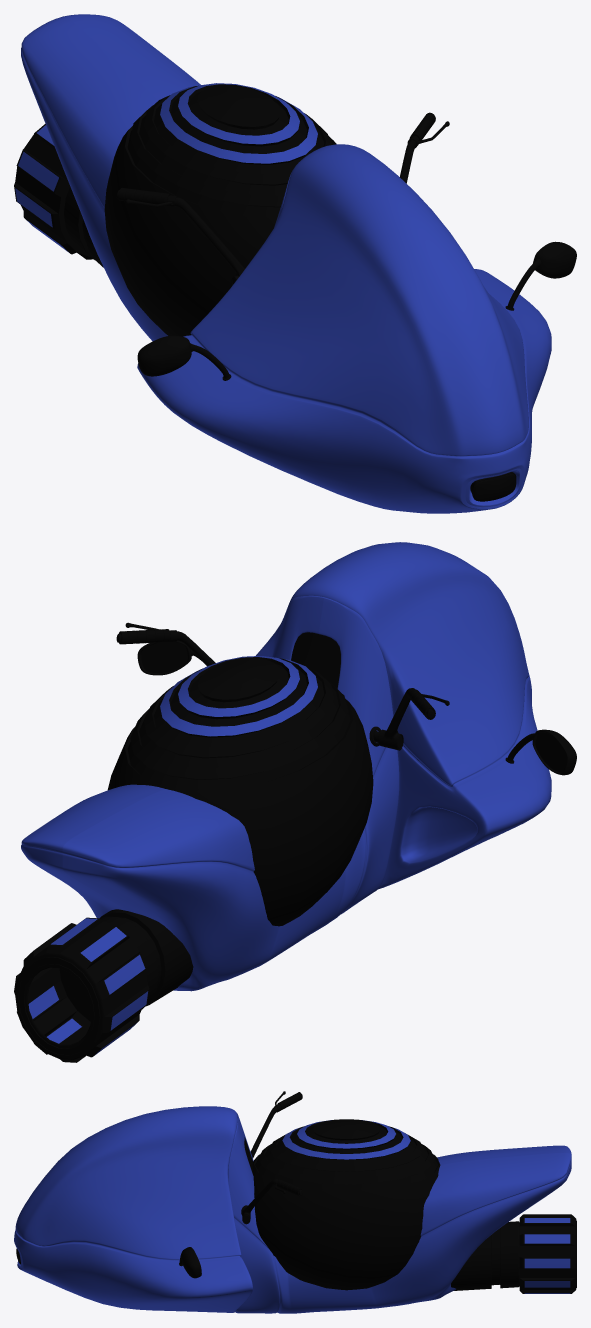
Rendered from Car_Ghost.fbx.
The picture shows the model from 3 angles, top to bottom: view 1: azimuth 30°, elevation 25°; view 2: azimuth 150°, elevation 25°; view 3: azimuth 270°, elevation 25°; orthographic projection. The views are drawn at different scales.
Visible parts, largest first — view 1: Ghost; view 2: Ghost; view 3: Ghost.
Part boxes in pixels (box(x1,y1,x2,y2)): Ghost: box(14, 14, 576, 513); Ghost: box(14, 542, 576, 1062); Ghost: box(14, 1091, 576, 1313).
Bounding box in the file's own units: 177 × 120 × 311.
